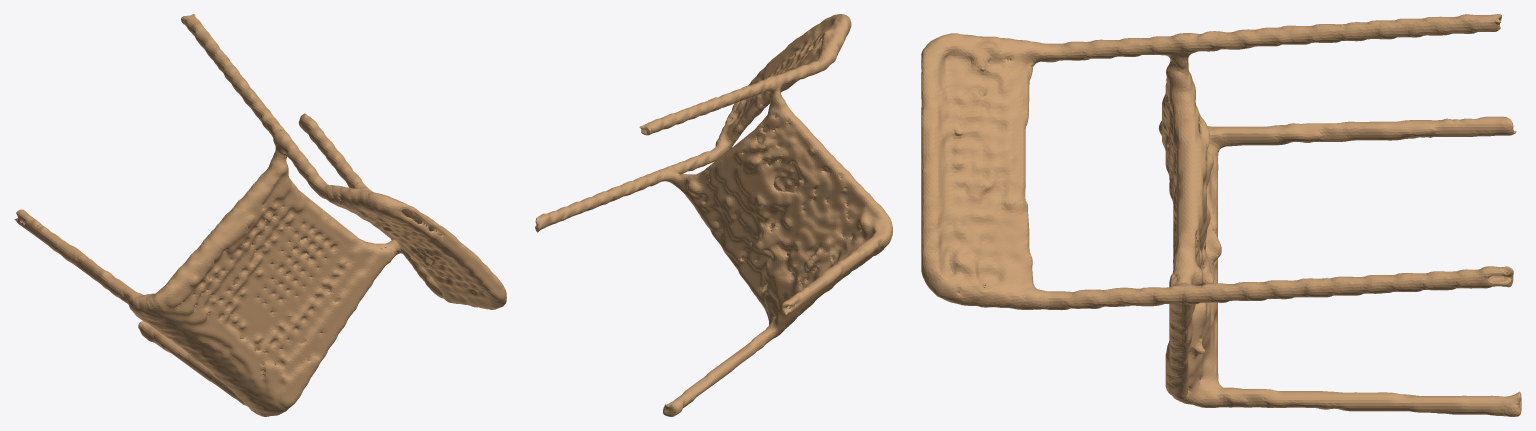
3 renders of one model, left to right at view 1: azimuth 30°, elevation 25°; view 2: azimuth 150°, elevation 25°; view 3: azimuth 270°, elevation 25°, orthographic. The views are drawn at different scales.
Visible parts, largest first — view 1: whitechair.obj; view 2: whitechair.obj; view 3: whitechair.obj.
Part boxes in pixels (x1=…): whitechair.obj: x1=14, y1=14, x2=506, y2=416; whitechair.obj: x1=535, y1=14, x2=892, y2=416; whitechair.obj: x1=921, y1=14, x2=1521, y2=416.
Size of the model in its own units: 0.6063 by 0.6266 by 0.8111.
